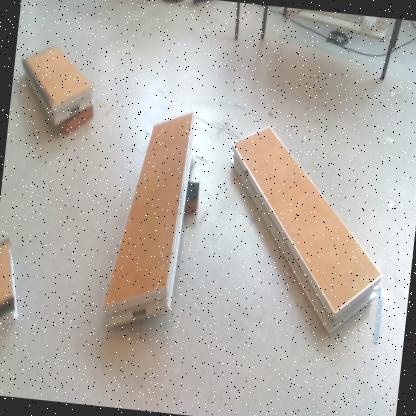Stairs: (231, 128, 381, 336), (104, 112, 196, 329), (24, 47, 93, 127), (1, 243, 18, 334)
